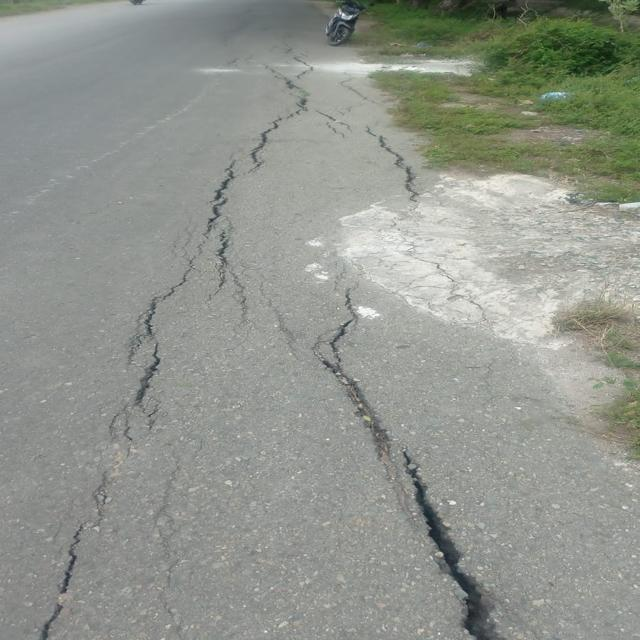Memanjang: (27, 40, 322, 640), (304, 282, 500, 640)
